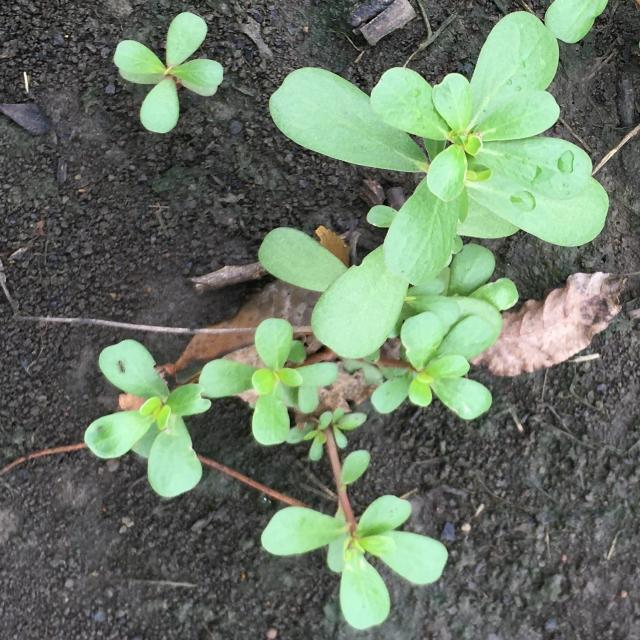Purslane: (83, 0, 610, 630), (113, 12, 224, 134)
